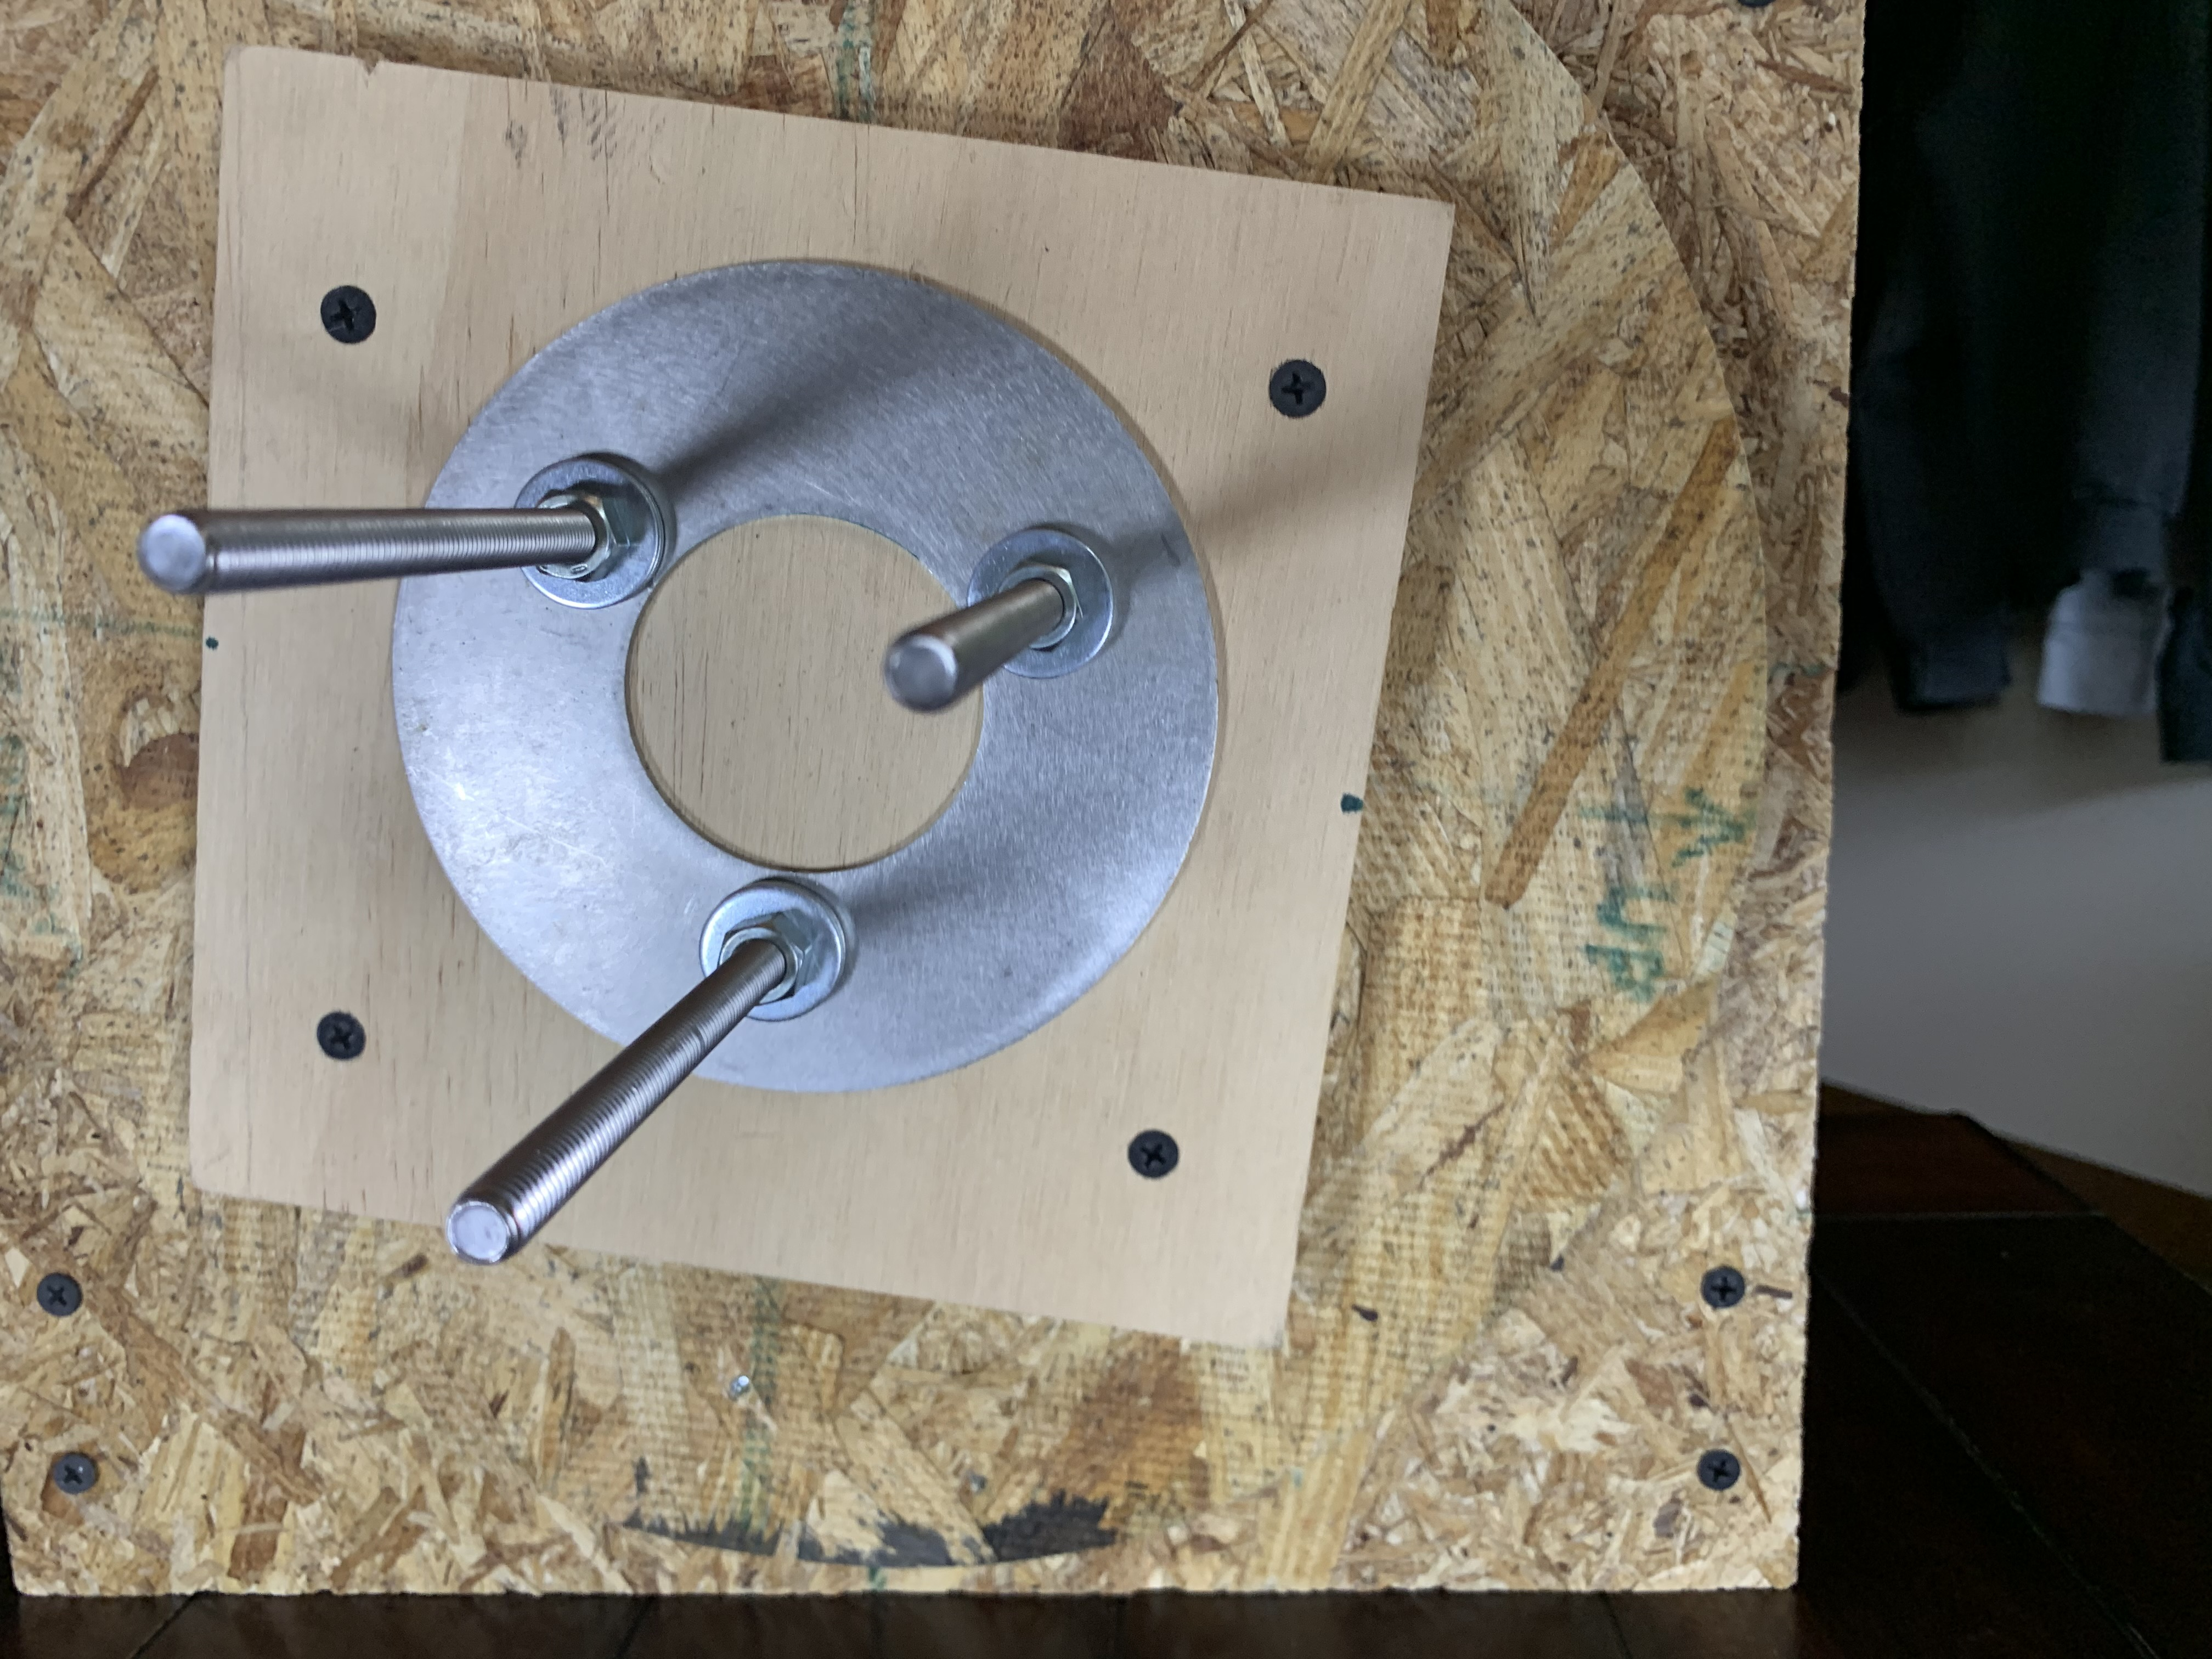bolt: (514, 451, 674, 617), (965, 523, 1122, 681), (695, 880, 857, 1021)
